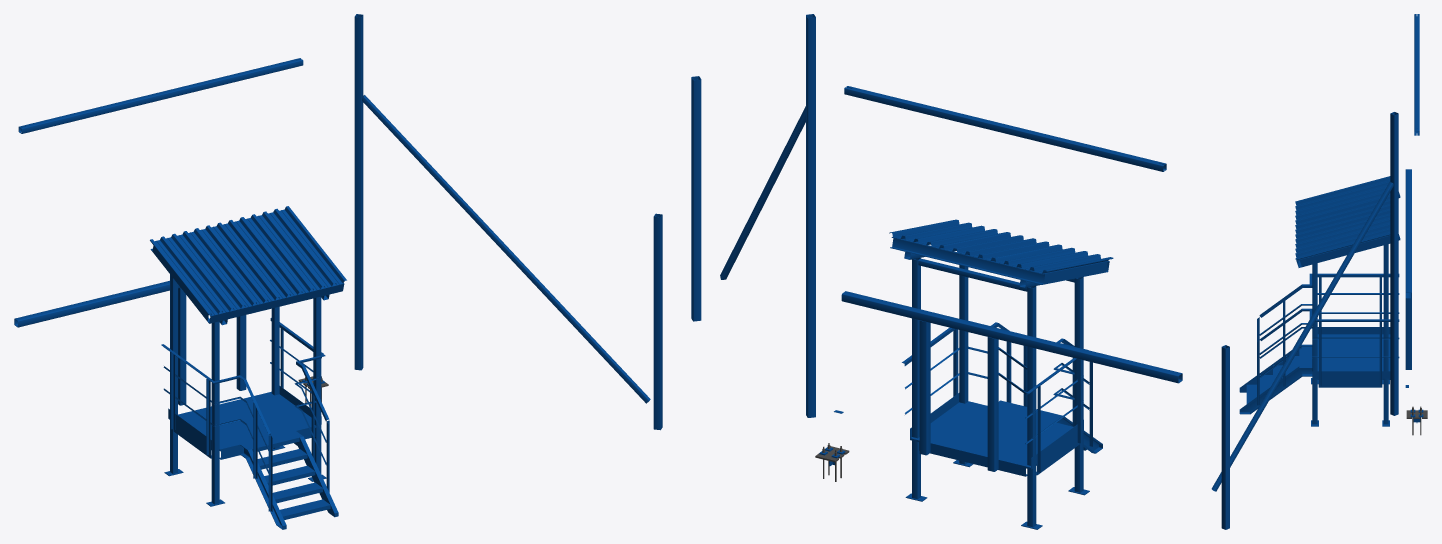
Rendered from GCC-AAV-13220-30.nwd(104).fbx.
3 views of the same model, side by side, from view 1: azimuth 30°, elevation 25°; view 2: azimuth 150°, elevation 25°; view 3: azimuth 270°, elevation 25° (orthographic). The views are drawn at different scales.
Parts seen in each view (by area): view 1: Группа фасетов (×5), PANEL 109 of FRMWORK /GCC-AFT-DDD-13220-11-5206-KM3_333-UNPL, PANEL 108 of FRMWORK /GCC-AFT-DDD-13220-11-5206-KM3_333-UNPL, PANEL 107 of FRMWORK /GCC-AFT-DDD-13220-11-5206-KM3_333-UNPL, PANEL 6 of SBFRAMEWORK /13220-BD-001-211-5206/CS/KM3/PLT/+1., GENSEC 241 of FRMWORK /GCC-AFT-DDD-13220-11-5206-KM_KM2-UNPL, GENSEC 282 of FRMWORK /GCC-AFT-DDD-13220-11-5206-KM_KM2-UNPL, GENSEC 244 of FRMWORK /GCC-AFT-DDD-13220-11-5206-KM_KM2-UNPL, GENSEC 7 of SBFRAMEWORK /13220-BD-001-212-5206/CS/KM2/B/+3.3, GENSEC 373 of FRMWORK /GCC-AFT-DDD-13220-11-5206-KM3_333-UNP, GENSEC 30 of SBFRAMEWORK /13220-BD-001-212-5206/CS/KM2/СТ/+1, GENSEC 31 of SBFRAMEWORK /13220-BD-001-212-5206/CS/KM2/СТ/+1; view 2: Группа фасетов (×5), PANEL 6 of SBFRAMEWORK /13220-BD-001-211-5206/CS/KM3/PLT/+1., GENSEC 241 of FRMWORK /GCC-AFT-DDD-13220-11-5206-KM_KM2-UNPL, GENSEC 7 of SBFRAMEWORK /13220-BD-001-212-5206/CS/KM2/B/+3.3, GENSEC 244 of FRMWORK /GCC-AFT-DDD-13220-11-5206-KM_KM2-UNPL, GENSEC 374 of FRMWORK /GCC-AFT-DDD-13220-11-5206-KM3_333-UNP, PANEL 108 of FRMWORK /GCC-AFT-DDD-13220-11-5206-KM3_333-UNPL, PANEL 109 of FRMWORK /GCC-AFT-DDD-13220-11-5206-KM3_333-UNPL, PANEL 107 of FRMWORK /GCC-AFT-DDD-13220-11-5206-KM3_333-UNPL, GENSEC 31 of SBFRAMEWORK /13220-BD-001-212-5206/CS/KM2/СТ/+1, GENSEC 30 of SBFRAMEWORK /13220-BD-001-212-5206/CS/KM2/СТ/+1, GENSEC 282 of FRMWORK /GCC-AFT-DDD-13220-11-5206-KM_KM2-UNPL (+3 smaller); view 3: Группа фасетов (×6), GENSEC 241 of FRMWORK /GCC-AFT-DDD-13220-11-5206-KM_KM2-UNPL, PANEL 6 of SBFRAMEWORK /13220-BD-001-211-5206/CS/KM3/PLT/+1., GENSEC 282 of FRMWORK /GCC-AFT-DDD-13220-11-5206-KM_KM2-UNPL, PANEL 109 of FRMWORK /GCC-AFT-DDD-13220-11-5206-KM3_333-UNPL, PANEL 108 of FRMWORK /GCC-AFT-DDD-13220-11-5206-KM3_333-UNPL, PANEL 107 of FRMWORK /GCC-AFT-DDD-13220-11-5206-KM3_333-UNPL, GENSEC 244 of FRMWORK /GCC-AFT-DDD-13220-11-5206-KM_KM2-UNPL, GENSEC 7 of SBFRAMEWORK /13220-BD-001-212-5206/CS/KM2/B/+3.3, GENSEC 378 of FRMWORK /GCC-AFT-DDD-13220-11-5206-KM3_333-UNP, PANEL 12 of FRMWORK /GCC-AFT-DDD-13220-11-5206-KM3_333-UNPLA, PANEL 11 of FRMWORK /GCC-AFT-DDD-13220-11-5206-KM3_333-UNPLA (+3 smaller).
Part boxes in pixels (x1,y1,x2,y2): Группа фасетов (×5): (18,58,321,504); PANEL 109 of FRMWORK /GCC-AFT-DDD-13220-11-5206-KM3_333-UNPL: (241,206,346,293); PANEL 108 of FRMWORK /GCC-AFT-DDD-13220-11-5206-KM3_333-UNPL: (150,229,253,315); PANEL 107 of FRMWORK /GCC-AFT-DDD-13220-11-5206-KM3_333-UNPL: (196,218,301,304); PANEL 6 of SBFRAMEWORK /13220-BD-001-211-5206/CS/KM3/PLT/+1.: (168,391,316,451); GENSEC 241 of FRMWORK /GCC-AFT-DDD-13220-11-5206-KM_KM2-UNPL: (354,14,363,370); GENSEC 282 of FRMWORK /GCC-AFT-DDD-13220-11-5206-KM_KM2-UNPL: (362,95,650,403); GENSEC 244 of FRMWORK /GCC-AFT-DDD-13220-11-5206-KM_KM2-UNPL: (653,213,662,430); GENSEC 7 of SBFRAMEWORK /13220-BD-001-212-5206/CS/KM2/B/+3.3: (14,280,180,327); GENSEC 373 of FRMWORK /GCC-AFT-DDD-13220-11-5206-KM3_333-UNP: (207,283,344,323); GENSEC 30 of SBFRAMEWORK /13220-BD-001-212-5206/CS/KM2/СТ/+1: (178,288,186,405); GENSEC 31 of SBFRAMEWORK /13220-BD-001-212-5206/CS/KM2/СТ/+1: (236,315,246,390); Группа фасетов (×5): (844,86,1166,527); PANEL 6 of SBFRAMEWORK /13220-BD-001-211-5206/CS/KM3/PLT/+1.: (910,401,1083,469); GENSEC 241 of FRMWORK /GCC-AFT-DDD-13220-11-5206-KM_KM2-UNPL: (806,14,815,417); GENSEC 7 of SBFRAMEWORK /13220-BD-001-212-5206/CS/KM2/B/+3.3: (841,291,1182,383); GENSEC 244 of FRMWORK /GCC-AFT-DDD-13220-11-5206-KM_KM2-UNPL: (691,76,701,321); GENSEC 374 of FRMWORK /GCC-AFT-DDD-13220-11-5206-KM3_333-UNP: (890,237,1045,284); PANEL 108 of FRMWORK /GCC-AFT-DDD-13220-11-5206-KM3_333-UNPL: (992,245,1113,273); PANEL 109 of FRMWORK /GCC-AFT-DDD-13220-11-5206-KM3_333-UNPL: (889,219,1009,248); PANEL 107 of FRMWORK /GCC-AFT-DDD-13220-11-5206-KM3_333-UNPL: (941,233,1061,261); GENSEC 31 of SBFRAMEWORK /13220-BD-001-212-5206/CS/KM2/СТ/+1: (919,320,930,455); GENSEC 30 of SBFRAMEWORK /13220-BD-001-212-5206/CS/KM2/СТ/+1: (987,337,998,471); GENSEC 282 of FRMWORK /GCC-AFT-DDD-13220-11-5206-KM_KM2-UNPL: (720,106,805,279); Группа фасетов (×6): (1240,14,1419,424); GENSEC 241 of FRMWORK /GCC-AFT-DDD-13220-11-5206-KM_KM2-UNPL: (1390,112,1398,415); PANEL 6 of SBFRAMEWORK /13220-BD-001-211-5206/CS/KM3/PLT/+1.: (1317,334,1390,379); GENSEC 282 of FRMWORK /GCC-AFT-DDD-13220-11-5206-KM_KM2-UNPL: (1211,182,1393,491); PANEL 109 of FRMWORK /GCC-AFT-DDD-13220-11-5206-KM3_333-UNPL: (1295,214,1390,260); PANEL 108 of FRMWORK /GCC-AFT-DDD-13220-11-5206-KM3_333-UNPL: (1295,176,1390,219); PANEL 107 of FRMWORK /GCC-AFT-DDD-13220-11-5206-KM3_333-UNPL: (1295,195,1390,238); GENSEC 244 of FRMWORK /GCC-AFT-DDD-13220-11-5206-KM_KM2-UNPL: (1221,345,1229,529); GENSEC 7 of SBFRAMEWORK /13220-BD-001-212-5206/CS/KM2/B/+3.3: (1405,169,1411,298); GENSEC 378 of FRMWORK /GCC-AFT-DDD-13220-11-5206-KM3_333-UNP: (1299,235,1390,267); PANEL 12 of FRMWORK /GCC-AFT-DDD-13220-11-5206-KM3_333-UNPLA: (1312,371,1390,378); PANEL 11 of FRMWORK /GCC-AFT-DDD-13220-11-5206-KM3_333-UNPLA: (1317,327,1390,334).
Size of the model in its own units: 397 by 286 by 162.
